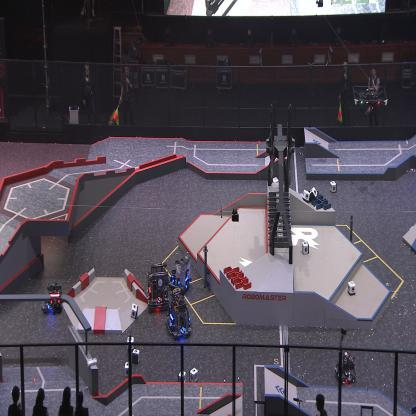car: (164, 286, 194, 338), (146, 260, 170, 312), (167, 254, 193, 293), (40, 279, 64, 315), (333, 351, 358, 383)
